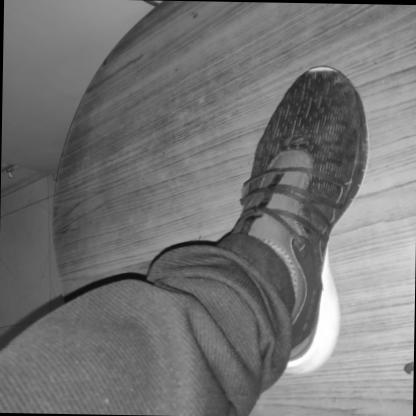ankle: (294, 295, 301, 305)
heel: (303, 363, 311, 371)
left_foot: (226, 63, 371, 375)
pinky: (275, 112, 281, 118)
toe: (336, 95, 344, 104)
